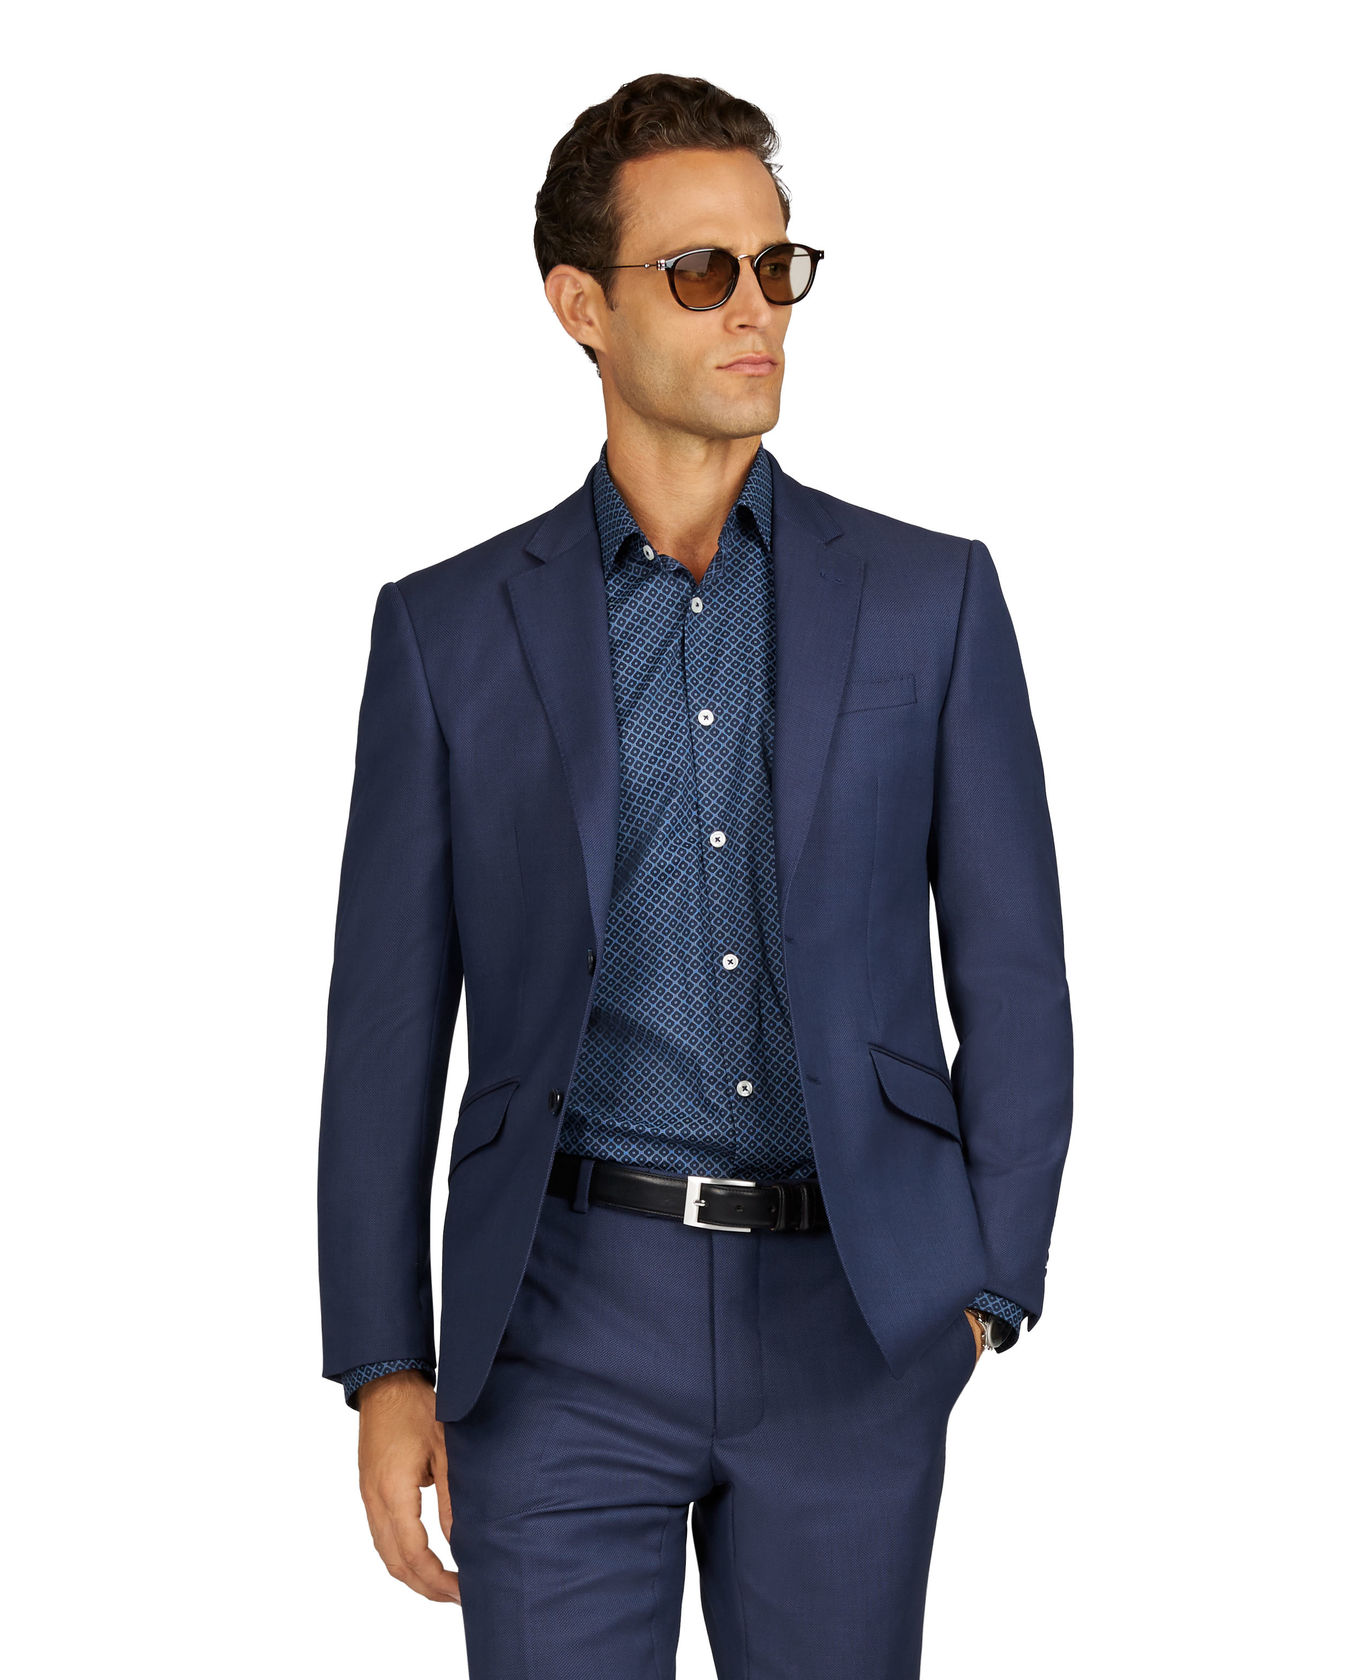F_M_suit jacket: (242, 510, 1135, 1415)
F_belt: (551, 1144, 864, 1254)
F_shirt: (590, 428, 793, 1151)
